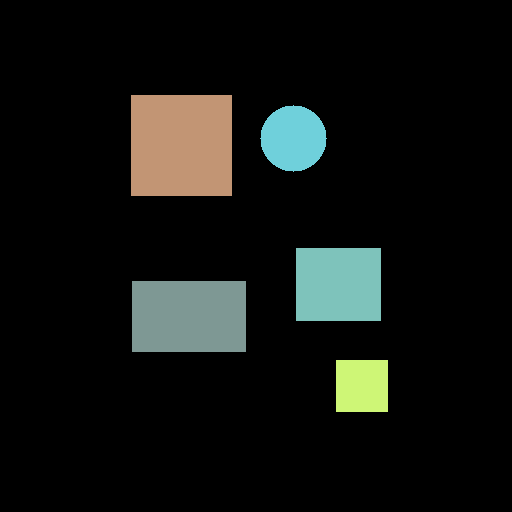circle: (260, 105, 326, 171)
rectangle: (132, 281, 245, 351), (296, 248, 380, 320)
square: (131, 95, 231, 195), (336, 360, 387, 411)
